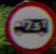Heavy Vehicles: (9, 4, 50, 41)
